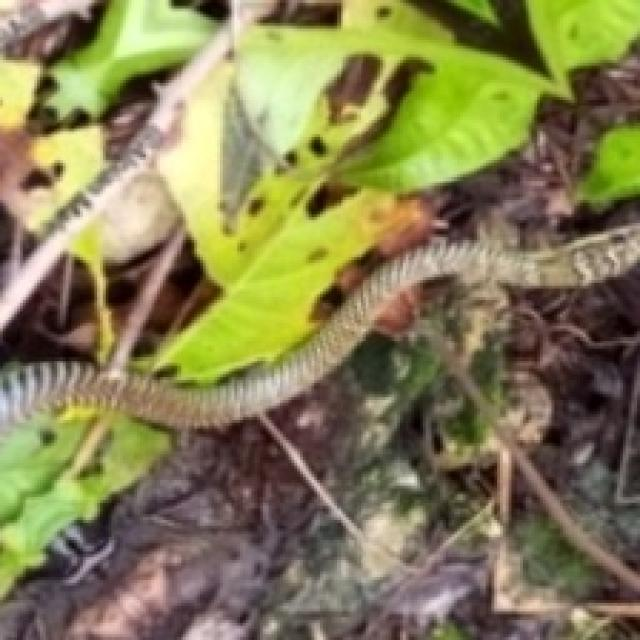paradise tree snake: (0, 223, 637, 431)
